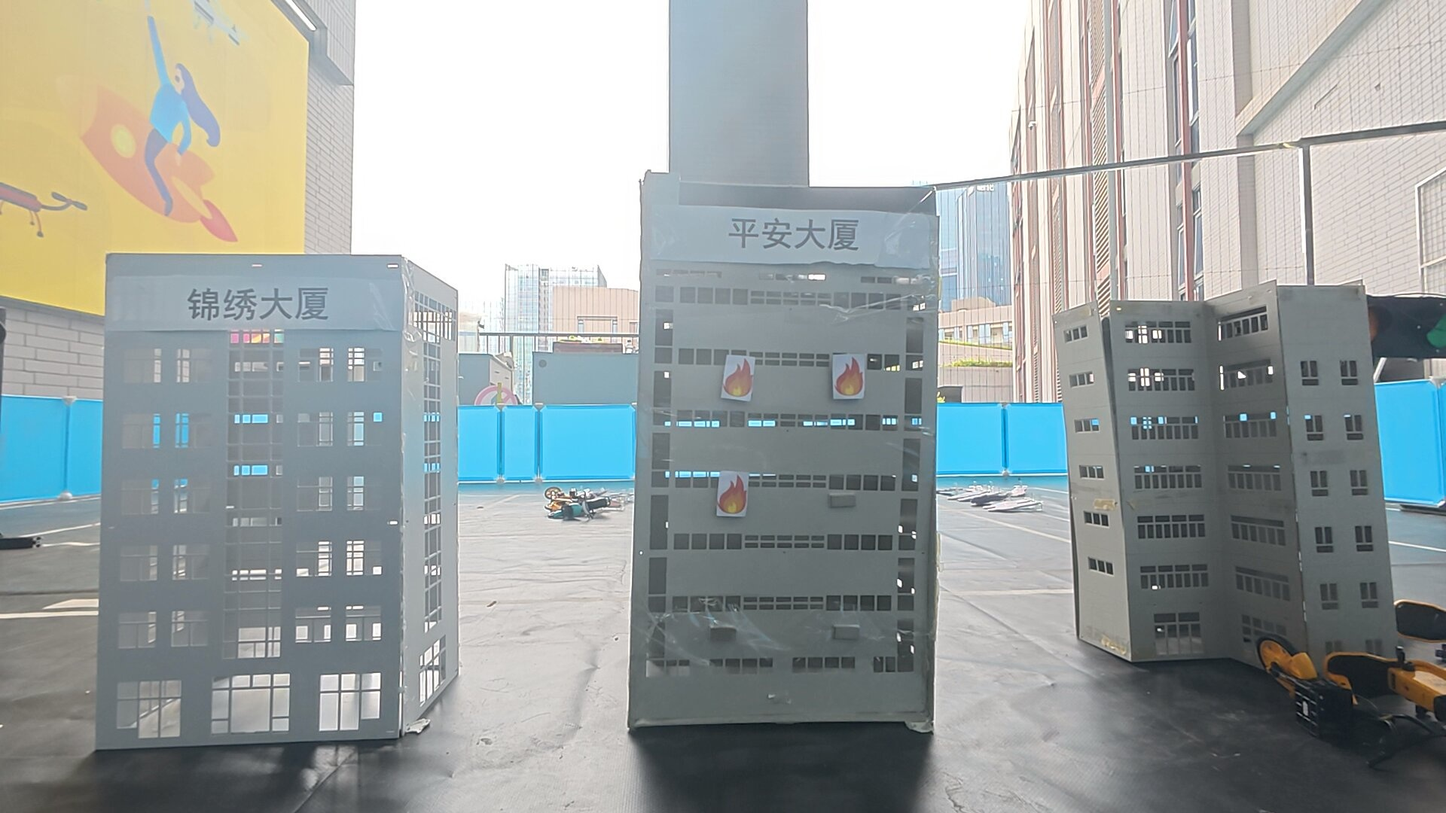fire: (830, 353, 869, 401), (721, 352, 758, 400), (716, 472, 752, 517)
